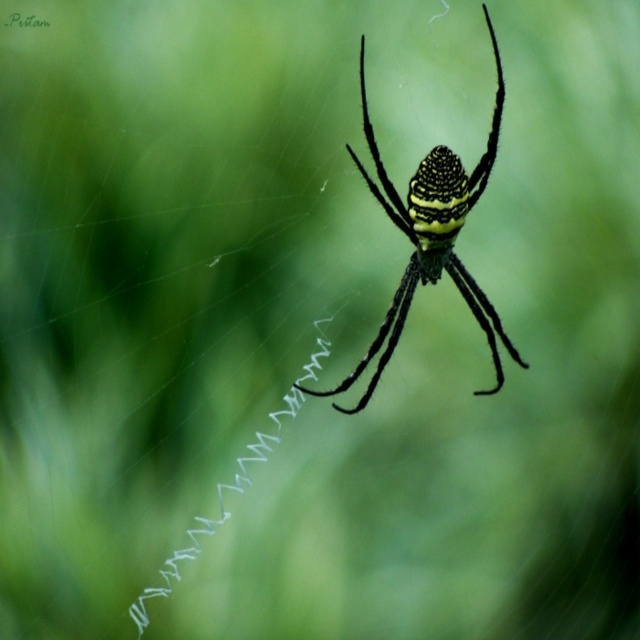Spider: (293, 3, 529, 416)
